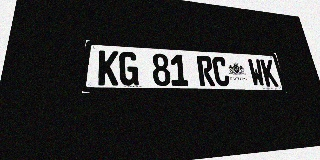1: (169, 54, 188, 86)
8: (152, 53, 171, 86)
C: (211, 56, 231, 86)
G: (119, 51, 139, 86)
K: (98, 50, 119, 85), (260, 59, 279, 87)
R: (196, 56, 215, 86)
W: (247, 58, 266, 87)
